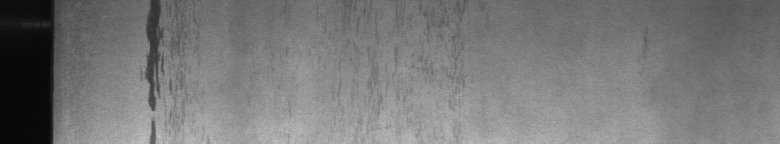hd: (143, 4, 164, 136)
